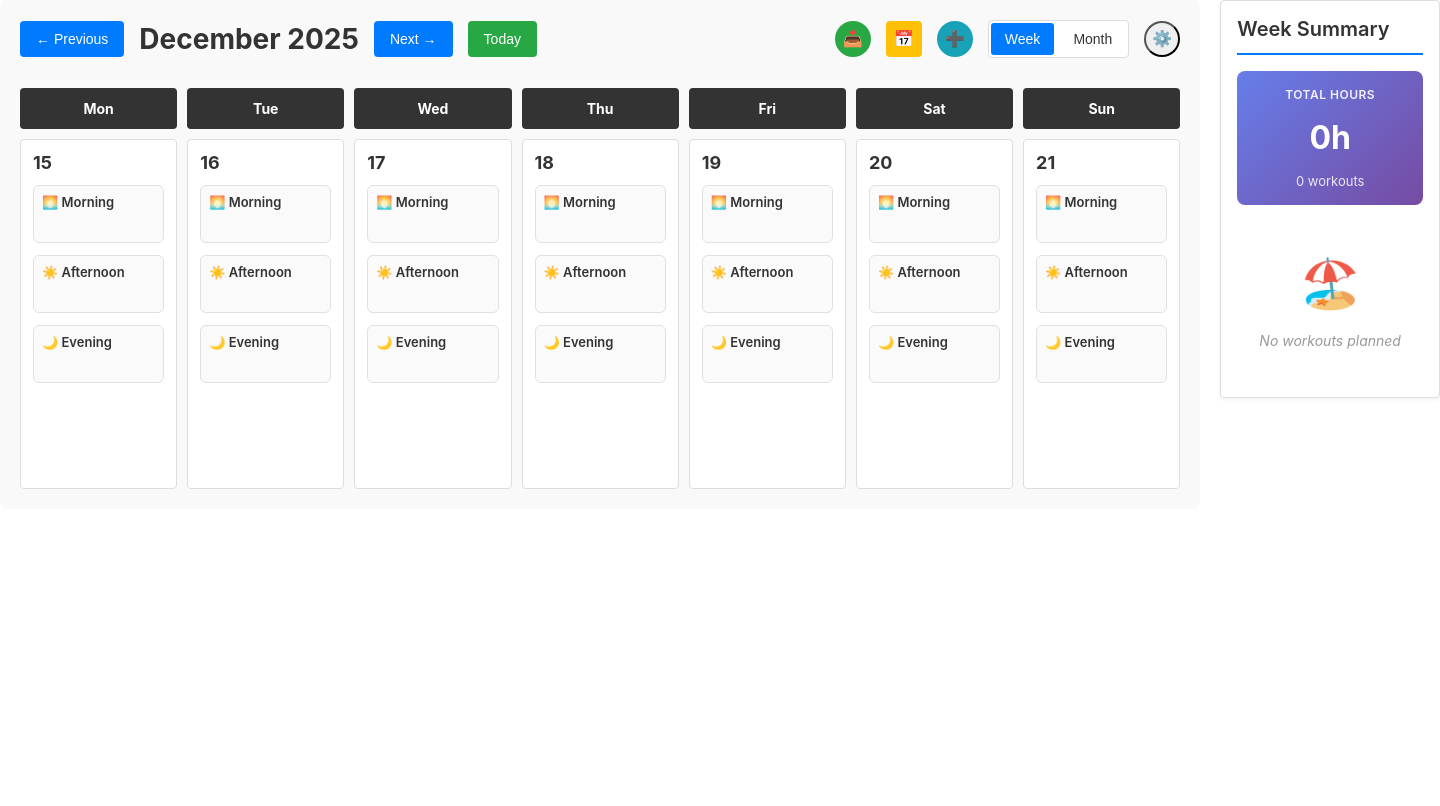
Test: Calendar Component › should handle year boundary transitions
This screenshot has width=1440, height=806.
Check: the heading "December 2025" is shown, box [139,22,359,56]
// Switch to month view
Step 1. Click the button "Month" → coordinates (1093, 39), box [1059,23,1126,55]
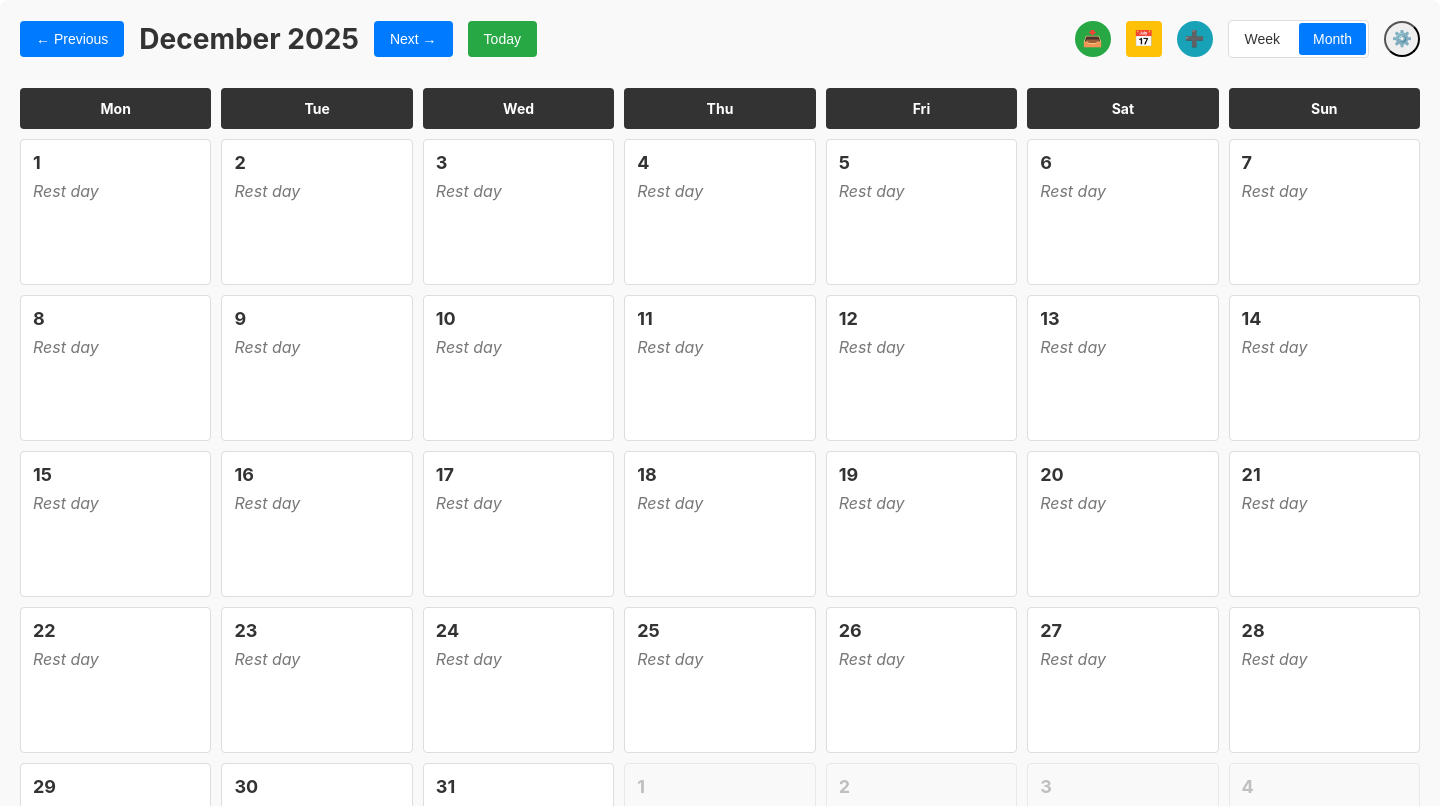
Step 2. Click the button "Next →" → coordinates (413, 39), box [374,21,453,57]
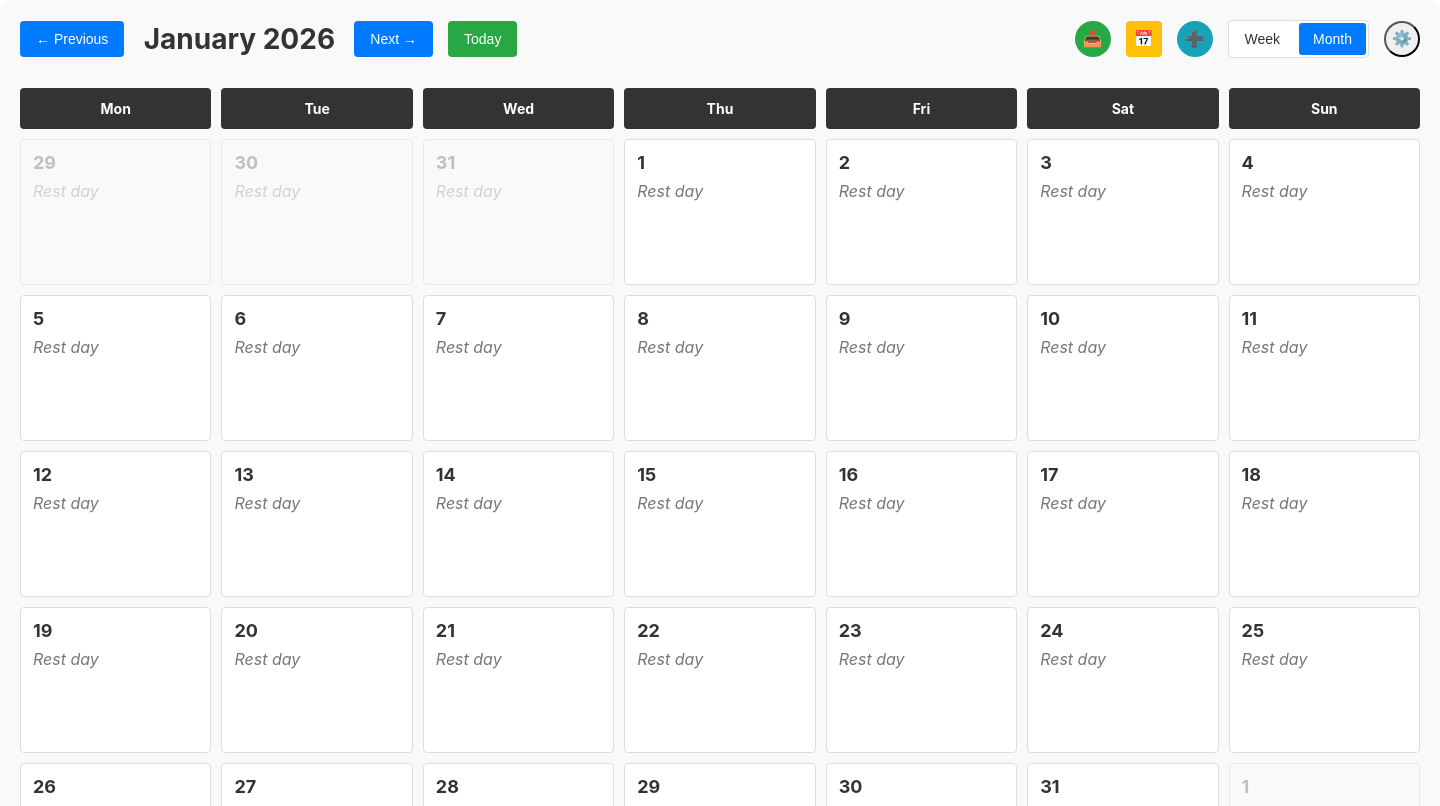
Check: the heading "January 2026" is shown, box [139,22,339,56]
